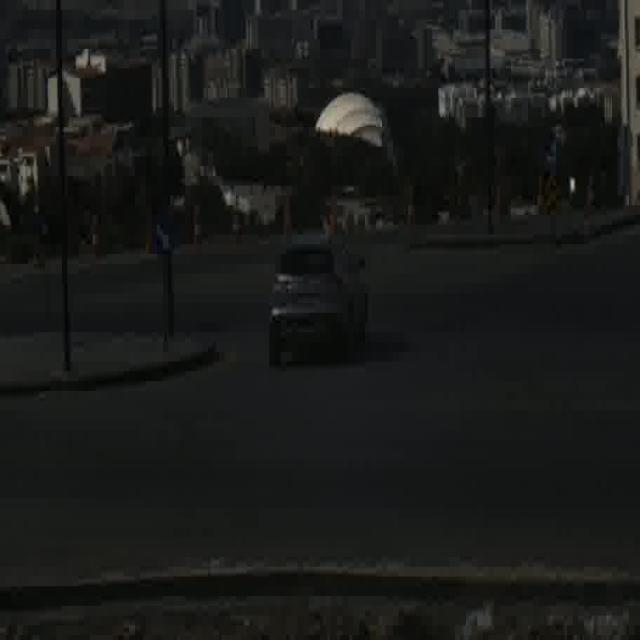Car: (269, 232, 369, 370)
